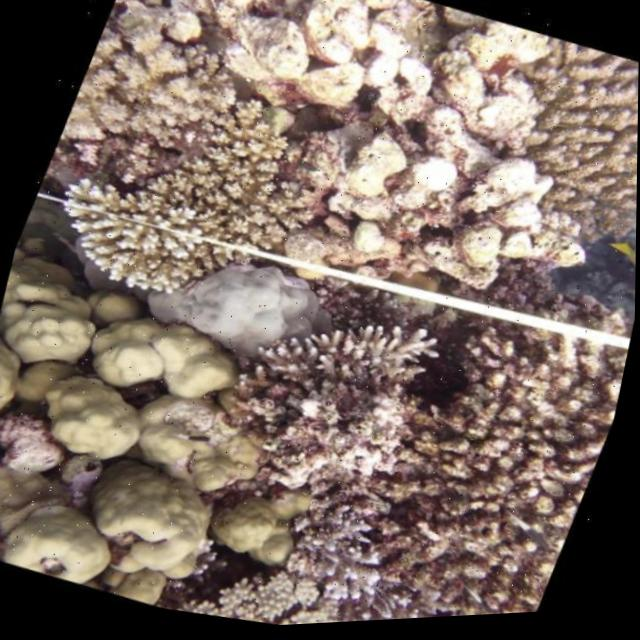Bleached Coral: (0, 235, 306, 631), (21, 132, 234, 316), (167, 230, 361, 391)
